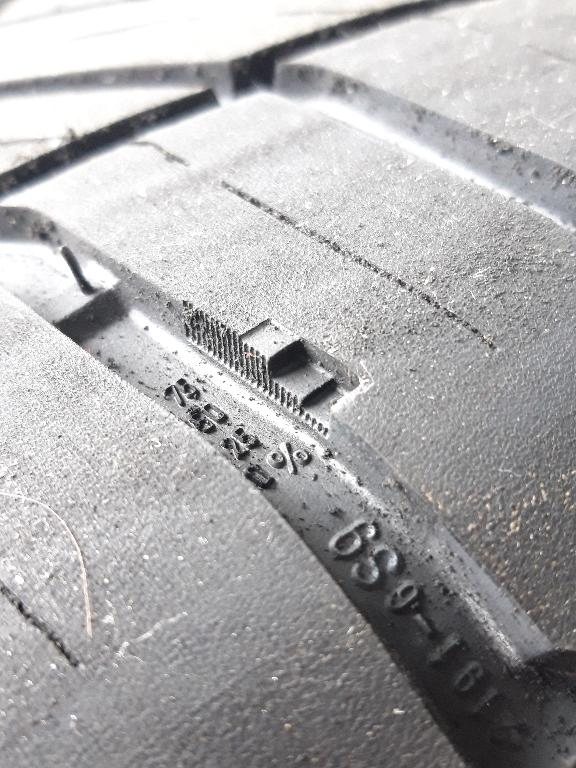temoin:50: (232, 314, 376, 454)
